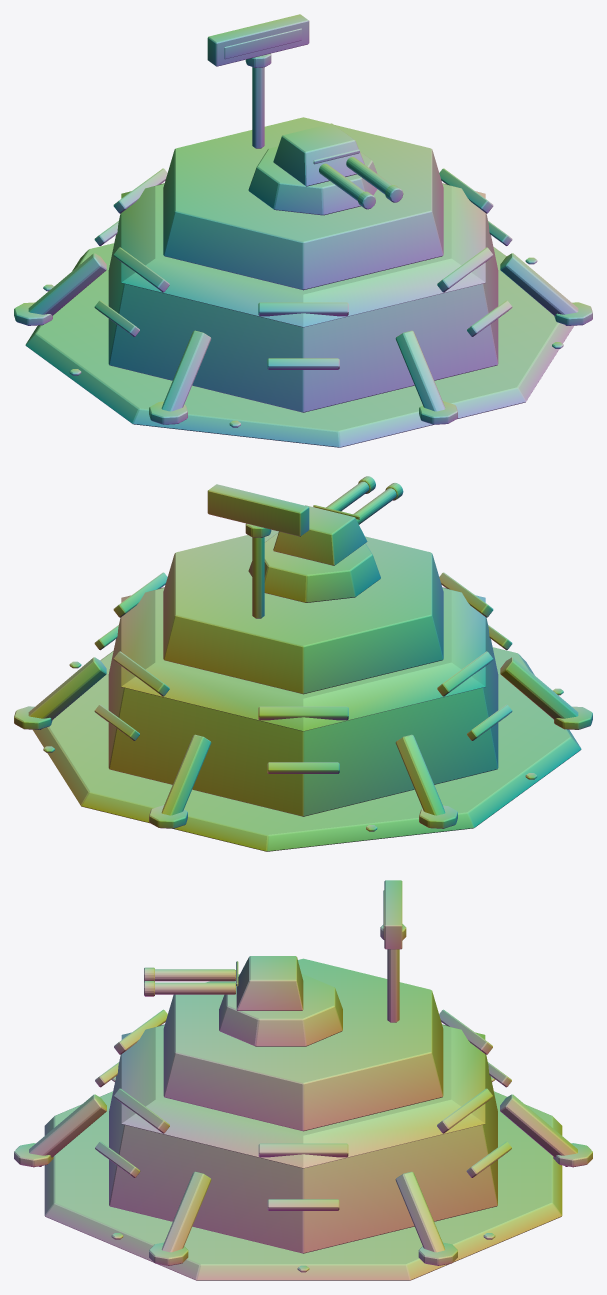
Rendered from outpost_rig.glb.
3 renders of one model, top to bottom at view 1: azimuth 30°, elevation 25°; view 2: azimuth 150°, elevation 25°; view 3: azimuth 270°, elevation 25°, orthographic.
Parts seen in each view (by area): view 1: body, spin_radar; view 2: body, spin_radar; view 3: body, spin_radar.
Boxes of the visible parts, left/top/right/bottom form: body: left=14, top=67, right=592, bottom=447; spin_radar: left=207, top=14, right=309, bottom=67; body: left=14, top=476, right=592, bottom=851; spin_radar: left=207, top=484, right=309, bottom=537; body: left=14, top=949, right=592, bottom=1280; spin_radar: left=380, top=880, right=406, bottom=949.
Bounding box in the file's own units: 23.88 × 13.2 × 25.76.
